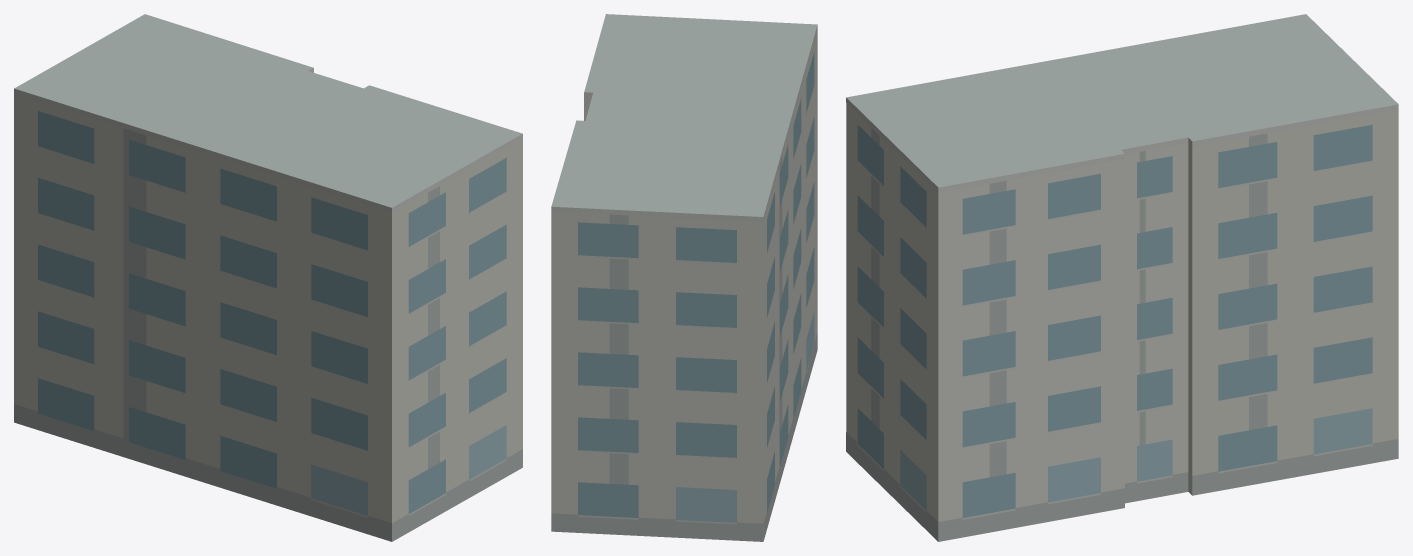
File: survey-upis-32772512.glb
The picture shows the model from 3 angles, left to right: view 1: azimuth 30°, elevation 25°; view 2: azimuth 150°, elevation 25°; view 3: azimuth 270°, elevation 25°; orthographic projection. The views are drawn at different scales.
Visible parts, largest first — view 1: survey-upis-32772512.tmp; view 2: survey-upis-32772512.tmp; view 3: survey-upis-32772512.tmp.
Boxes of the visible parts, bbox=[...] form: survey-upis-32772512.tmp: bbox=[14, 14, 522, 541]; survey-upis-32772512.tmp: bbox=[551, 14, 817, 541]; survey-upis-32772512.tmp: bbox=[846, 14, 1398, 541].
Size of the model in its own units: 16.61 by 15.8 by 22.34.
